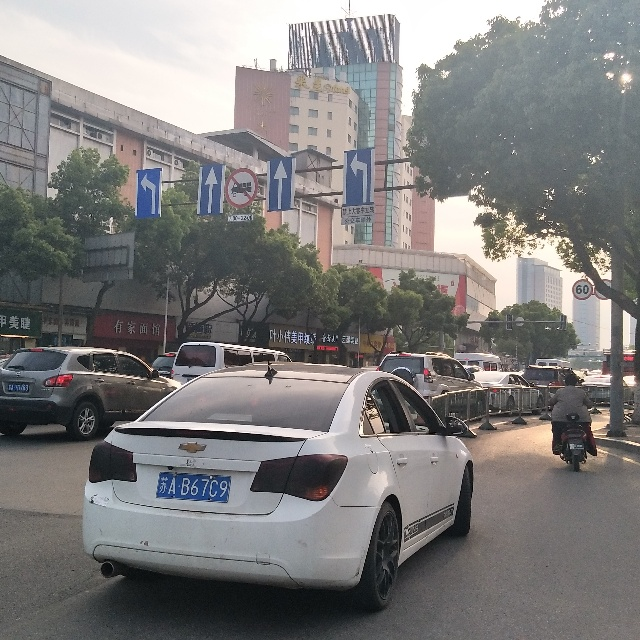left: (347, 148, 373, 208), (137, 170, 160, 217)
straight: (270, 160, 295, 212), (198, 168, 224, 214)
